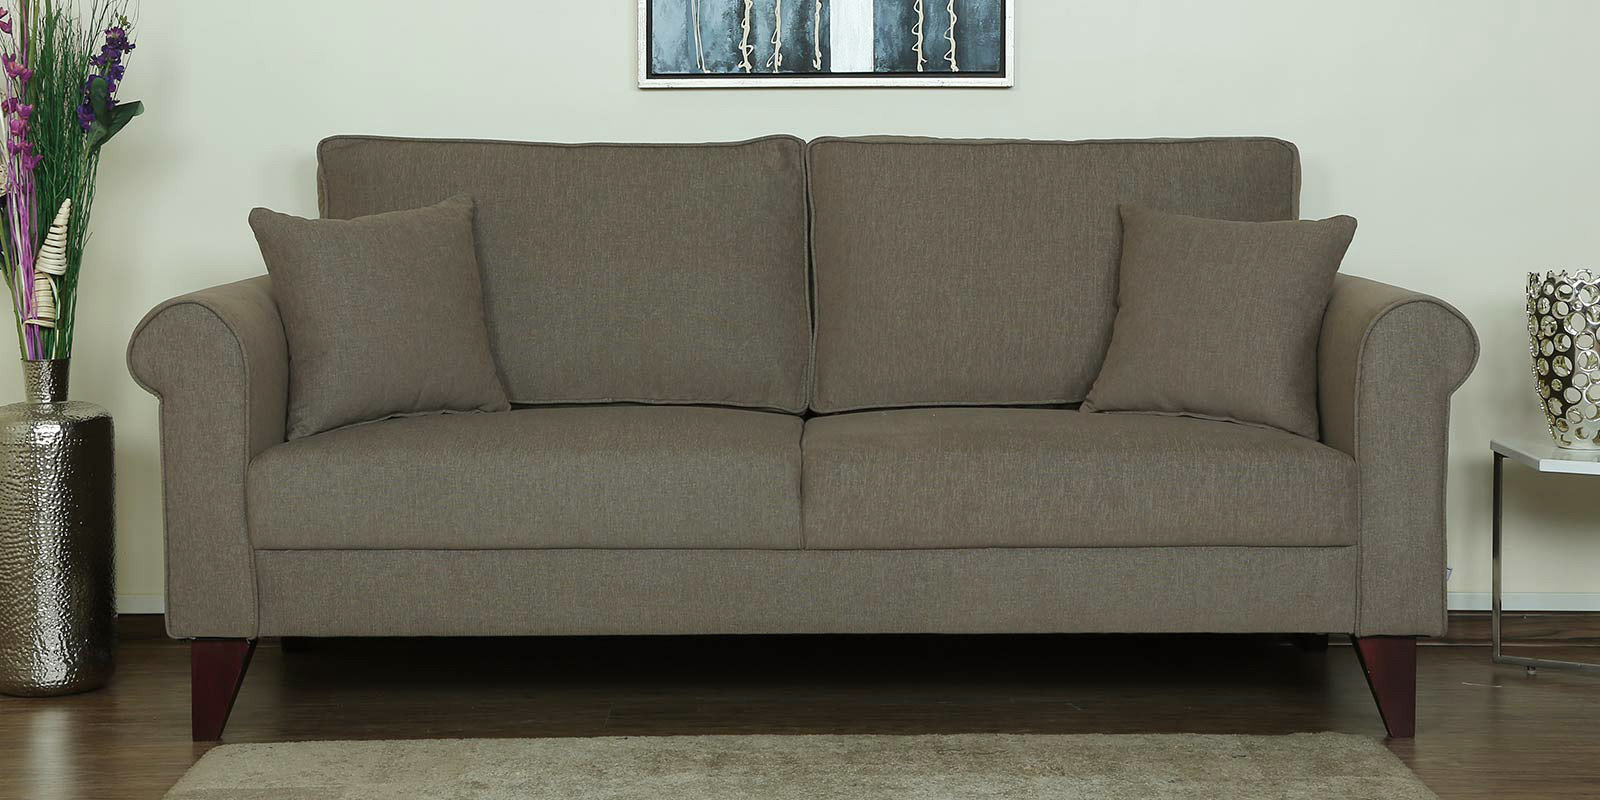Fuego Three Seater Sofa in Sandy Brown Colour by CasaCraft: (134, 126, 1482, 761)
